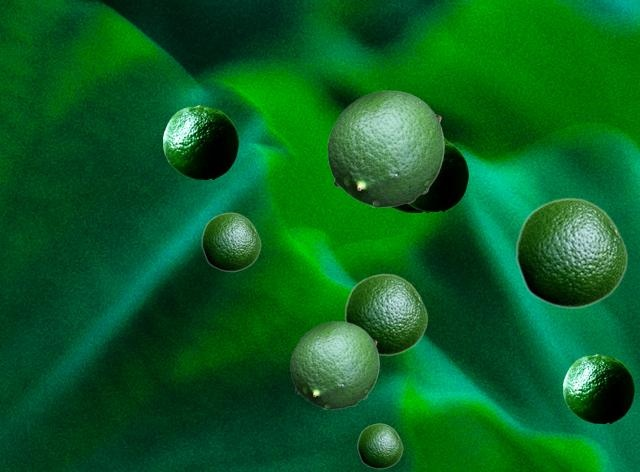calamansi: (327, 90, 443, 206), (515, 197, 627, 308), (290, 321, 378, 408), (344, 273, 427, 355), (163, 105, 237, 178), (563, 354, 633, 422), (390, 136, 447, 211), (409, 139, 467, 210), (201, 212, 260, 271), (357, 423, 402, 468)
